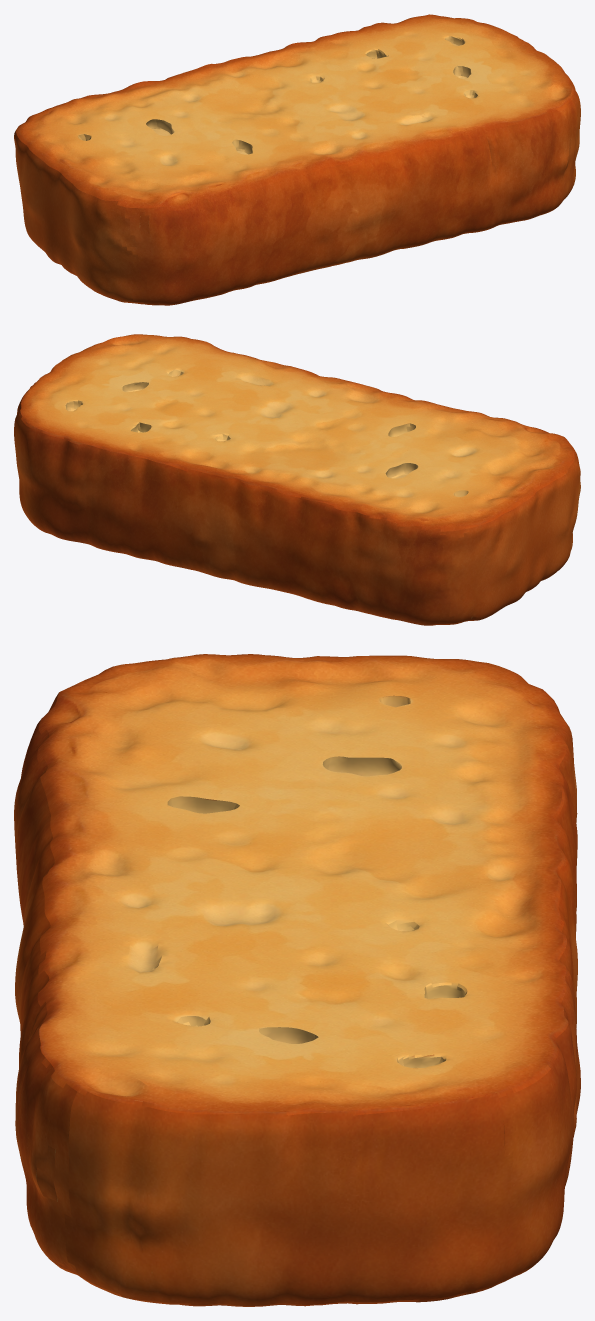
The model's file is Meshy_AI_Golden_Toast_Slice_1122031816_texture.glb.
3 views of the same model, one above another, from view 1: azimuth 30°, elevation 25°; view 2: azimuth 150°, elevation 25°; view 3: azimuth 270°, elevation 25° (orthographic). The views are drawn at different scales.
Visible parts, largest first — view 1: Mesh0; view 2: Mesh0; view 3: Mesh0.
Part boxes in pixels (x1,y1,x2,y2): Mesh0: [14, 14, 580, 305]; Mesh0: [14, 334, 580, 625]; Mesh0: [14, 654, 580, 1306].
Size of the model in its own units: 1.9 by 0.3932 by 0.972.
Materials: 1 (1 with a texture image).
